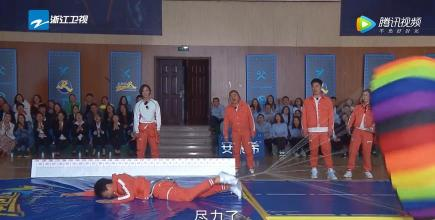10+: (1, 77, 376, 207)
down: (59, 171, 244, 206)
